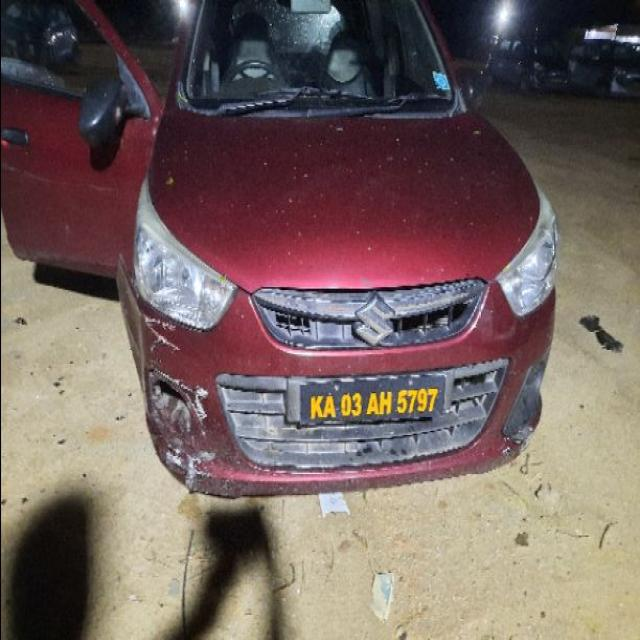license_plate: (297, 375, 443, 427)
